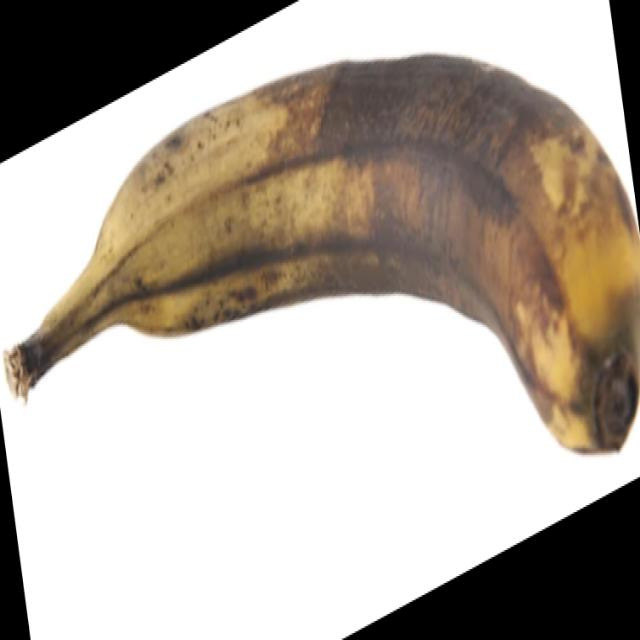Rotten: (1, 50, 640, 457)
